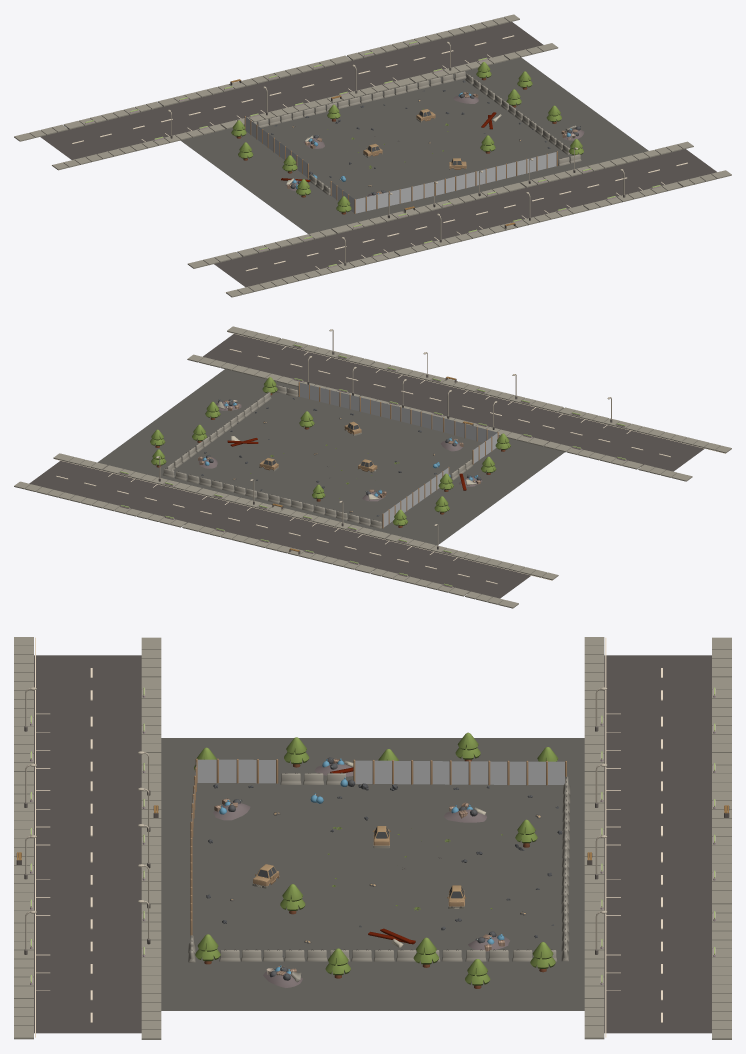
The model's file is SM_Env_1_A.fbx.
3 views of the same model, one above another, from view 1: azimuth 30°, elevation 25°; view 2: azimuth 150°, elevation 25°; view 3: azimuth 270°, elevation 25° (orthographic). The views are drawn at different scales.
Parts seen in each view (by area): view 1: Ground, TRAFFIC_FULL.005, TRAFFIC_FULL.003, Fences, Pine.011, Cube.042, Cube.045; view 2: Ground, TRAFFIC_FULL.003, TRAFFIC_FULL.005, Fences, Pine.011, Cube.042, Cube.045; view 3: Ground, TRAFFIC_FULL.003, TRAFFIC_FULL.005, Fences, Pine.011, Cube.045, Cube.042.
Boxes of the visible parts, x1=… form: Ground: x1=180, y1=57, x2=648, y2=233; TRAFFIC_FULL.005: x1=187, y1=141, x2=731, y2=297; TRAFFIC_FULL.003: x1=14, y1=14, x2=558, y2=170; Fences: x1=244, y1=116, x2=557, y2=213; Pine.011: x1=231, y1=62, x2=583, y2=214; Cube.042: x1=253, y1=71, x2=466, y2=127; Cube.045: x1=465, y1=73, x2=581, y2=166; Ground: x1=97, y1=369, x2=564, y2=545; TRAFFIC_FULL.003: x1=14, y1=453, x2=558, y2=608; TRAFFIC_FULL.005: x1=187, y1=326, x2=731, y2=481; Fences: x1=298, y1=382, x2=498, y2=528; Pine.011: x1=150, y1=377, x2=510, y2=527; Cube.042: x1=162, y1=468, x2=382, y2=528; Cube.045: x1=167, y1=385, x2=298, y2=470; Ground: x1=161, y1=738, x2=584, y2=1010; TRAFFIC_FULL.003: x1=584, y1=637, x2=731, y2=1039; TRAFFIC_FULL.005: x1=14, y1=637, x2=161, y2=1039; Fences: x1=190, y1=758, x2=566, y2=935; Pine.011: x1=194, y1=732, x2=558, y2=988; Cube.045: x1=188, y1=935, x2=557, y2=962; Cube.042: x1=561, y1=776, x2=570, y2=961.
Size of the model in its own units: 12562 by 735 by 9487.
